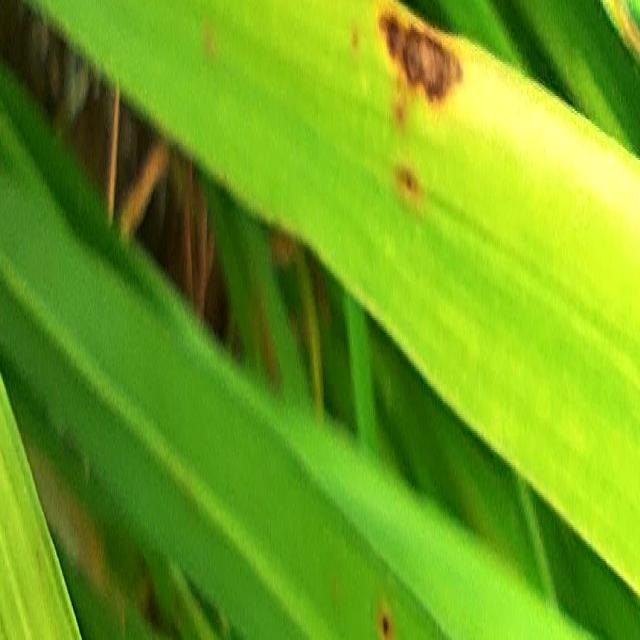NBS: (380, 9, 461, 102), (393, 150, 425, 210), (203, 0, 218, 74), (350, 12, 358, 62), (394, 107, 406, 127)
